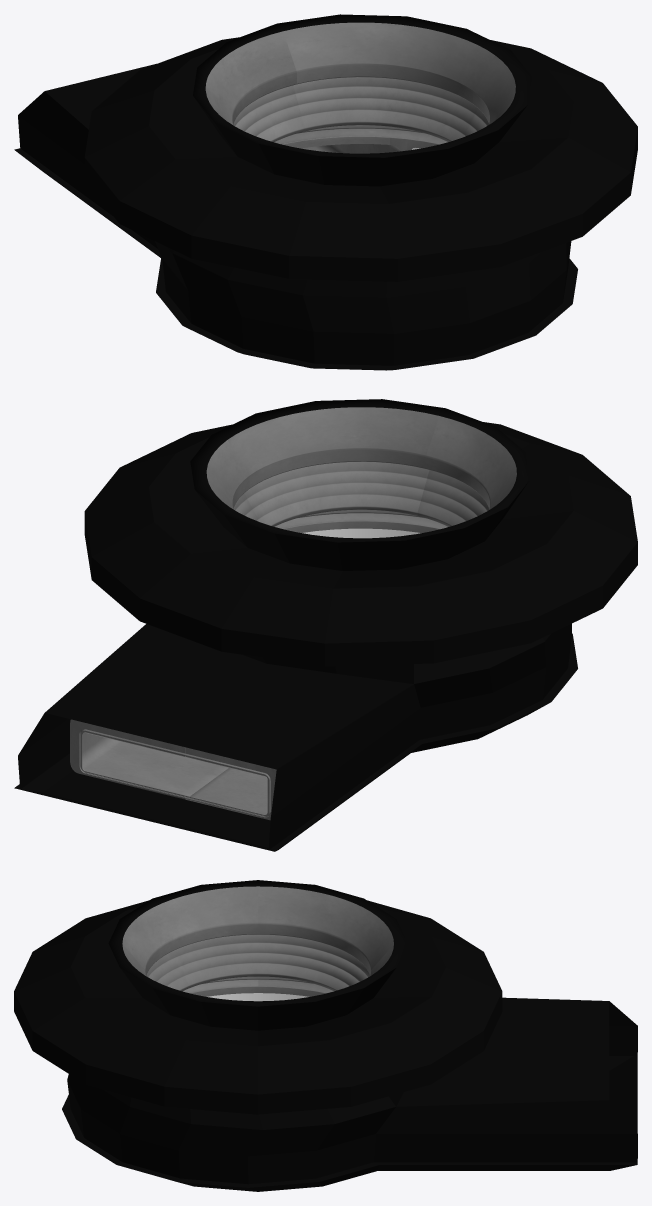
3 views of the same model, one above another, from view 1: azimuth 30°, elevation 25°; view 2: azimuth 150°, elevation 25°; view 3: azimuth 270°, elevation 25° (orthographic). The views are drawn at different scales.
Visible parts, largest first — view 1: Shadowbox, Part_K, Part_J, Part_G, Part_L, Part_F_03; view 2: Shadowbox, Part_K, Part_J, Part_F_03, Door_D, Part_F_02, Part_G, Door_B, Part_L, Part_Window_glass, Door_A; view 3: Shadowbox, Part_K, Part_J, Part_G, Part_L, Part_Window_glass.
Part boxes in pixels (left/top/right/bottom): Shadowbox: left=14, top=14, right=637, bottom=370; Part_K: left=205, top=22, right=515, bottom=124; Part_J: left=233, top=77, right=488, bottom=142; Part_G: left=274, top=128, right=447, bottom=144; Part_L: left=282, top=136, right=439, bottom=151; Part_F_03: left=301, top=144, right=400, bottom=153; Shadowbox: left=14, top=399, right=637, bottom=851; Part_K: left=206, top=407, right=516, bottom=509; Part_J: left=233, top=461, right=488, bottom=526; Part_F_03: left=82, top=732, right=228, bottom=796; Door_D: left=70, top=719, right=276, bottom=820; Part_F_02: left=190, top=768, right=267, bottom=814; Part_G: left=274, top=513, right=447, bottom=528; Door_B: left=80, top=730, right=269, bottom=817; Part_L: left=282, top=521, right=440, bottom=532; Part_Window_glass: left=302, top=528, right=421, bottom=538; Door_A: left=79, top=729, right=270, bottom=816; Shadowbox: left=14, top=880, right=637, bottom=1191; Part_K: left=122, top=886, right=393, bottom=975; Part_J: left=146, top=934, right=369, bottom=991; Part_G: left=183, top=979, right=333, bottom=993; Part_L: left=190, top=986, right=326, bottom=996; Part_Window_glass: left=207, top=993, right=308, bottom=1001.
Size of the model in its own units: 37.78 by 15.2 by 48.26.
8 materials, 3 textured.
